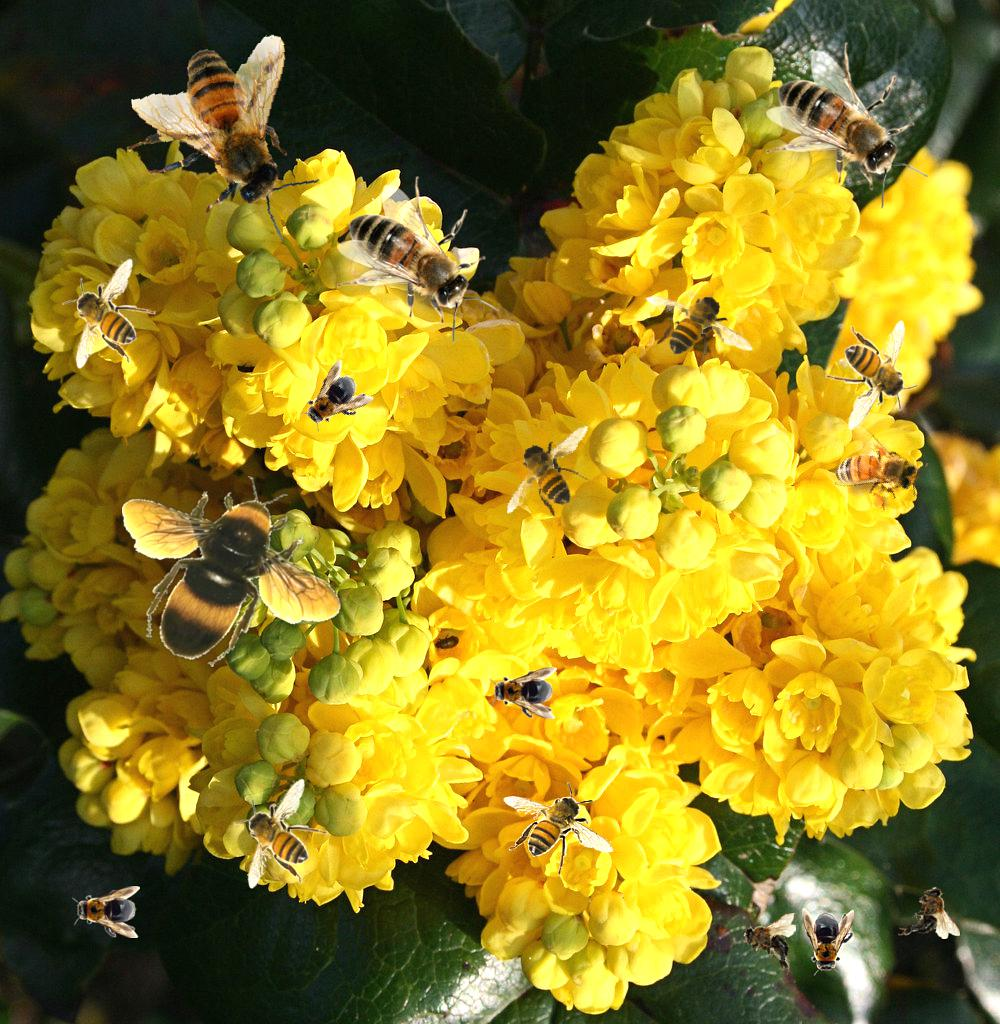Bee: (114, 16, 341, 246), (122, 476, 342, 667), (337, 176, 499, 343), (766, 42, 928, 209), (490, 404, 613, 538), (818, 416, 934, 525), (644, 281, 755, 375), (234, 778, 328, 889), (503, 782, 614, 876), (825, 320, 919, 431), (62, 258, 156, 369), (290, 358, 376, 444), (739, 908, 798, 976), (802, 908, 854, 976), (72, 886, 140, 938), (489, 667, 557, 719), (898, 886, 960, 939)
